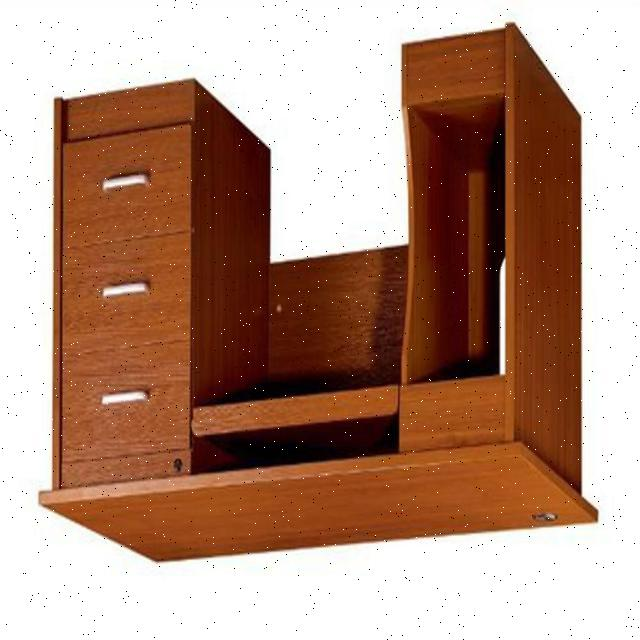mobile-phone: (39, 23, 607, 571)
